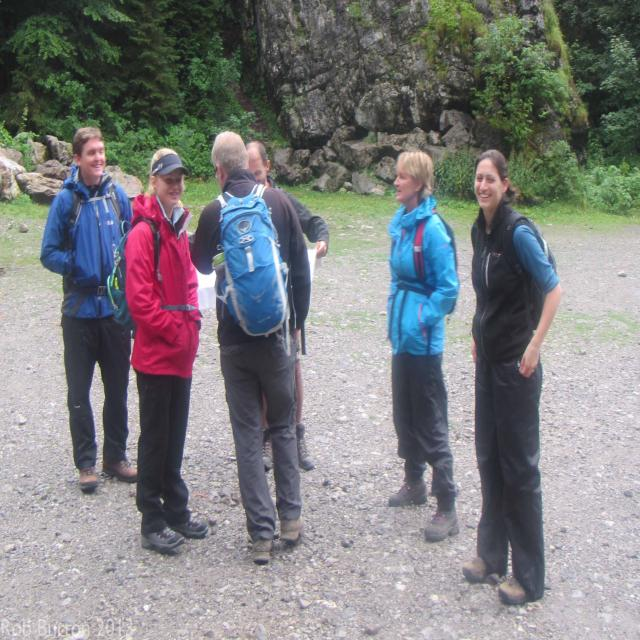body: (188, 127, 313, 569), (456, 145, 561, 608), (35, 121, 148, 494), (120, 144, 210, 553), (384, 146, 463, 548), (244, 140, 328, 472)
